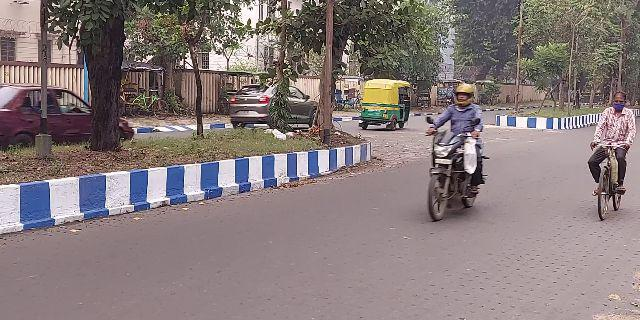Autorickshaw: (358, 74, 418, 133)
Cycle: (583, 88, 640, 225)
Motorbike: (423, 74, 493, 231)
